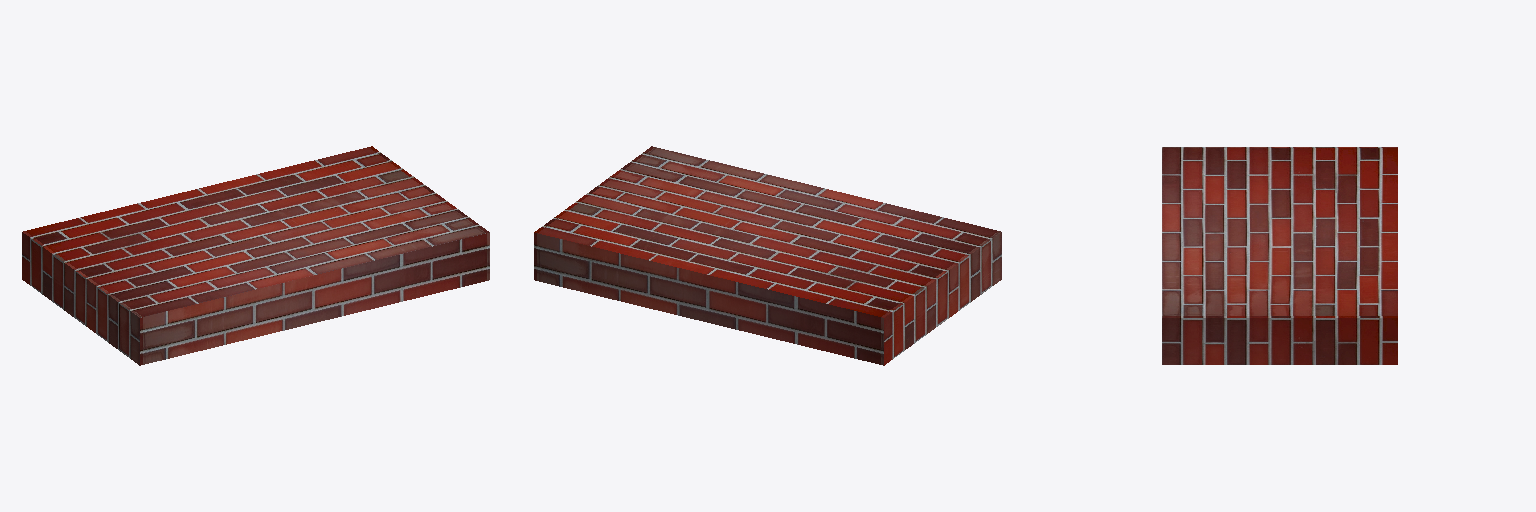
3 renders of one model, left to right at view 1: azimuth 30°, elevation 25°; view 2: azimuth 150°, elevation 25°; view 3: azimuth 270°, elevation 25°, orthographic.
Parts seen in each view (by area): view 1: Box001; view 2: Box001; view 3: Box001.
Part boxes in pixels (bbox=[...]): Box001: bbox=[22, 146, 489, 365]; Box001: bbox=[534, 146, 1001, 365]; Box001: bbox=[1162, 147, 1397, 364].
Bounding box in the file's own units: 17.63 × 2.3 × 10.28.
1 materials, 1 textured.